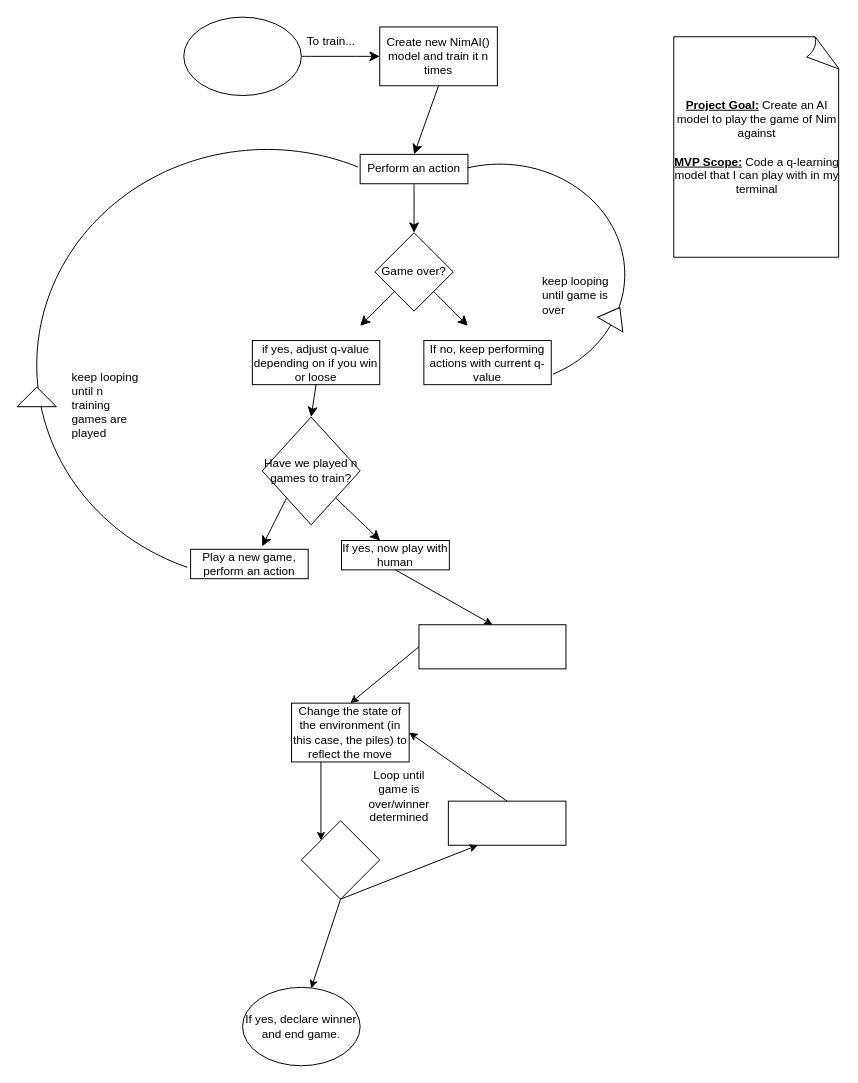
Image size: 858x1083. Some labels were removed from this diagram. Each missing label, with the box of its shape:
AI or Human has first play and performs a move/action: (418, 624, 566, 669)
check if game is over: (300, 820, 380, 899)
if no, Switch player, and they do a move/action: (447, 800, 566, 845)
Start by training the model n times: (183, 16, 301, 96)
